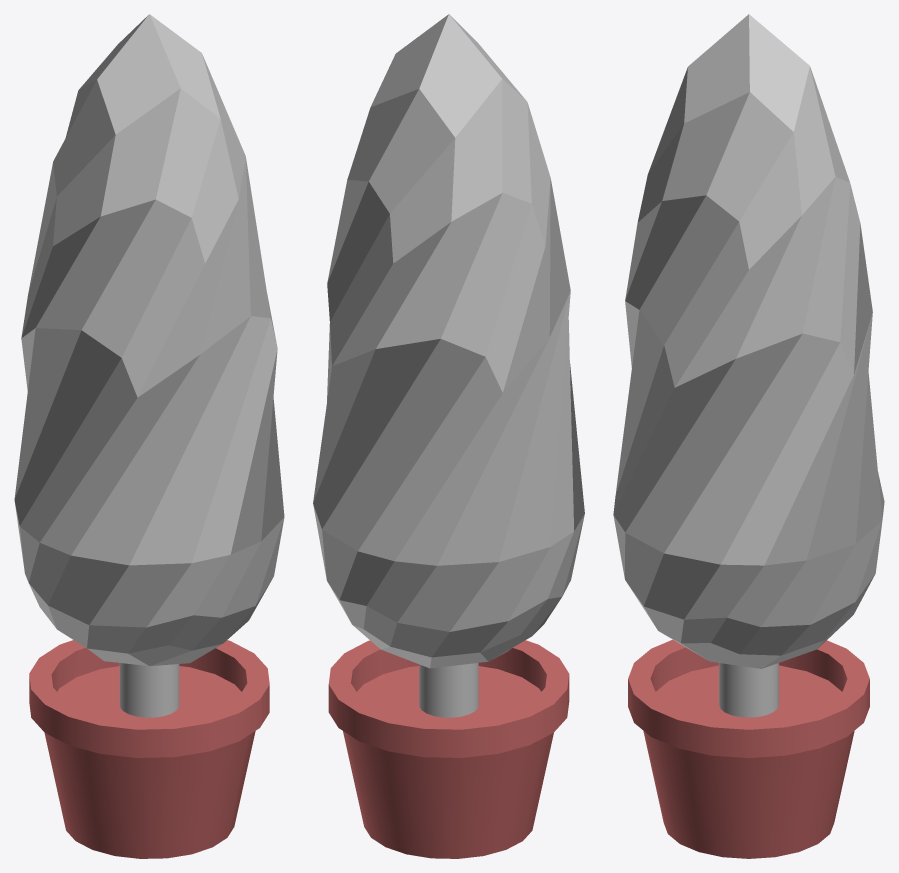
File: Baum_1.fbx
3 views of the same model, side by side, from view 1: azimuth 30°, elevation 25°; view 2: azimuth 150°, elevation 25°; view 3: azimuth 270°, elevation 25° (orthographic).
Parts seen in each view (by area): view 1: Blaetter, Topf, Stam; view 2: Blaetter, Topf, Stam; view 3: Blaetter, Topf, Stam.
Part boxes in pixels (x1=…): Blaetter: x1=14, y1=14, x2=284, y2=666; Topf: x1=29, y1=640, x2=269, y2=858; Stam: x1=119, y1=663, x2=179, y2=717; Blaetter: x1=313, y1=14, x2=584, y2=668; Topf: x1=328, y1=640, x2=569, y2=858; Stam: x1=419, y1=663, x2=478, y2=717; Blaetter: x1=613, y1=14, x2=884, y2=668; Topf: x1=628, y1=639, x2=869, y2=858; Stam: x1=719, y1=663, x2=778, y2=717.
Size of the model in its own units: 159 by 523 by 159.
